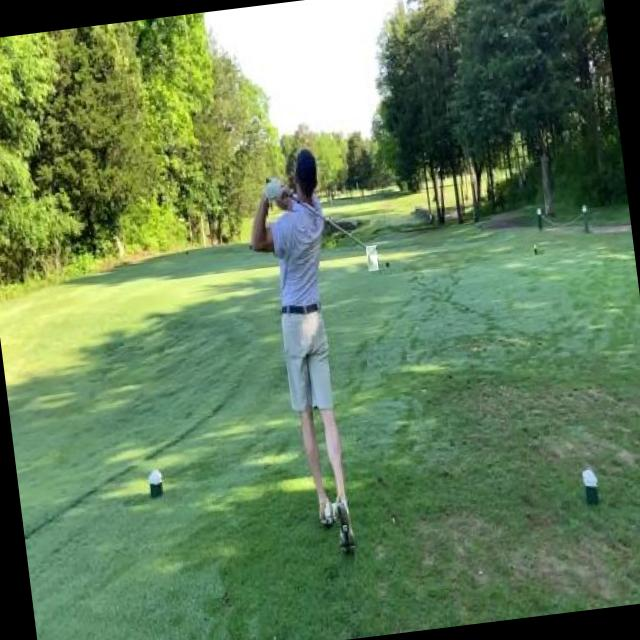club head: (366, 244, 378, 270)
